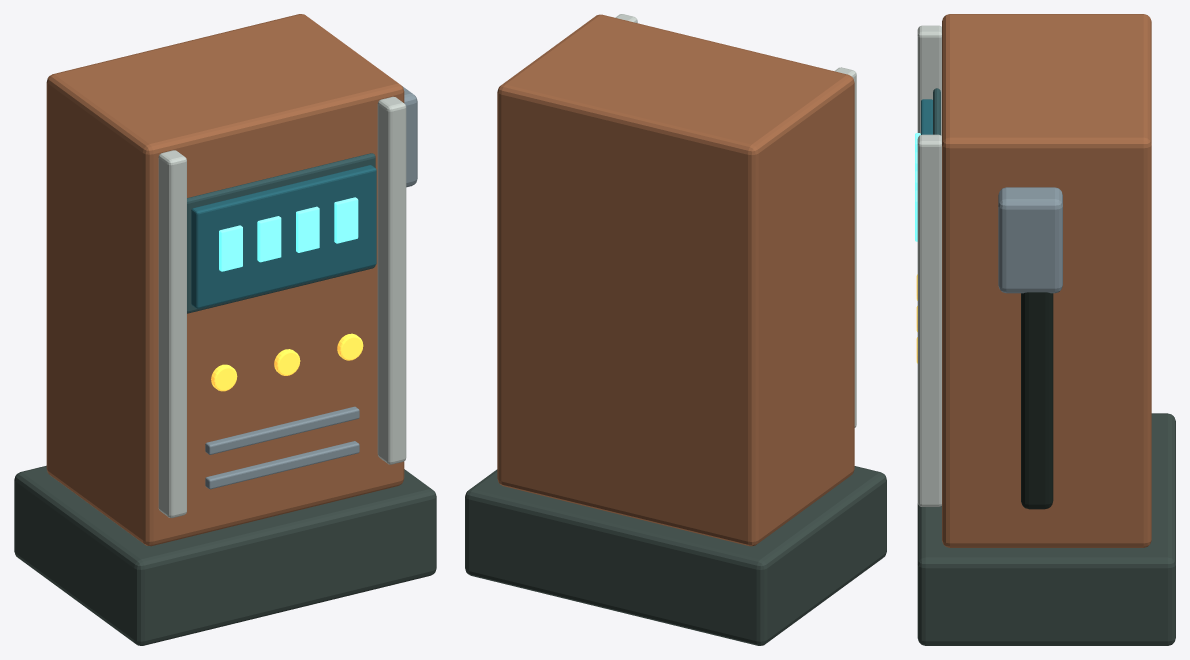
The model's file is fuel_pump.glb.
3 renders of one model, left to right at view 1: azimuth 30°, elevation 25°; view 2: azimuth 150°, elevation 25°; view 3: azimuth 270°, elevation 25°, orthographic. The views are drawn at different scales.
Visible parts, largest first — view 1: Control button.003; view 2: Control button.003; view 3: Control button.003.
Part boxes in pixels (box(x1,y1,x2,y2)): Control button.003: box(14, 14, 436, 645); Control button.003: box(465, 14, 886, 645); Control button.003: box(915, 14, 1175, 645).
Size of the model in its own units: 1.18 by 1.7 by 0.808.
